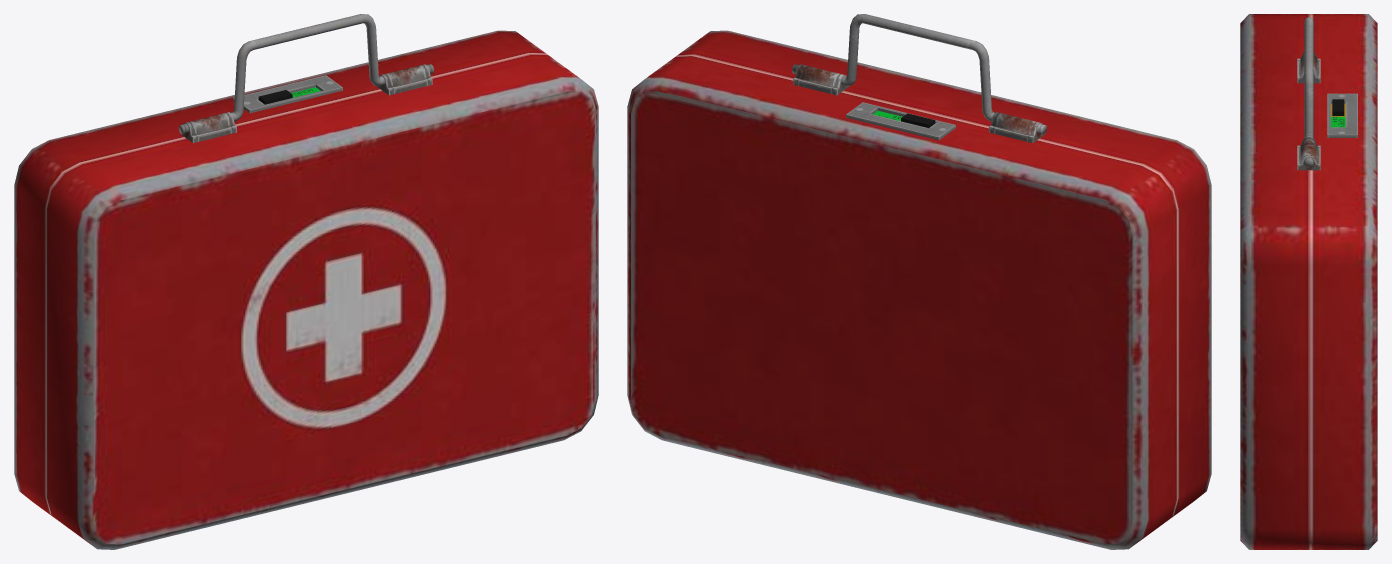
Rendered from MediKit.fbx.
The picture shows the model from 3 angles, left to right: view 1: azimuth 30°, elevation 25°; view 2: azimuth 150°, elevation 25°; view 3: azimuth 270°, elevation 25°; orthographic projection. The views are drawn at different scales.
Visible parts, largest first — view 1: Medikit_LP; view 2: Medikit_LP; view 3: Medikit_LP.
Boxes of the visible parts, box(x1,y1,x2,y2) form: Medikit_LP: box(14, 14, 598, 549); Medikit_LP: box(627, 14, 1211, 549); Medikit_LP: box(1240, 14, 1377, 549).
Size of the model in its own units: 2 by 1.69 by 0.5042.
1 material, 1 textured.
